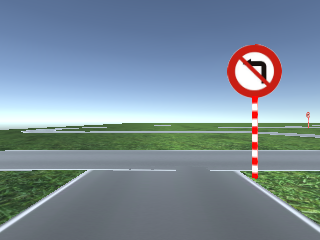0: (1, 195, 320, 239)
NoLeft: (227, 44, 282, 97)
